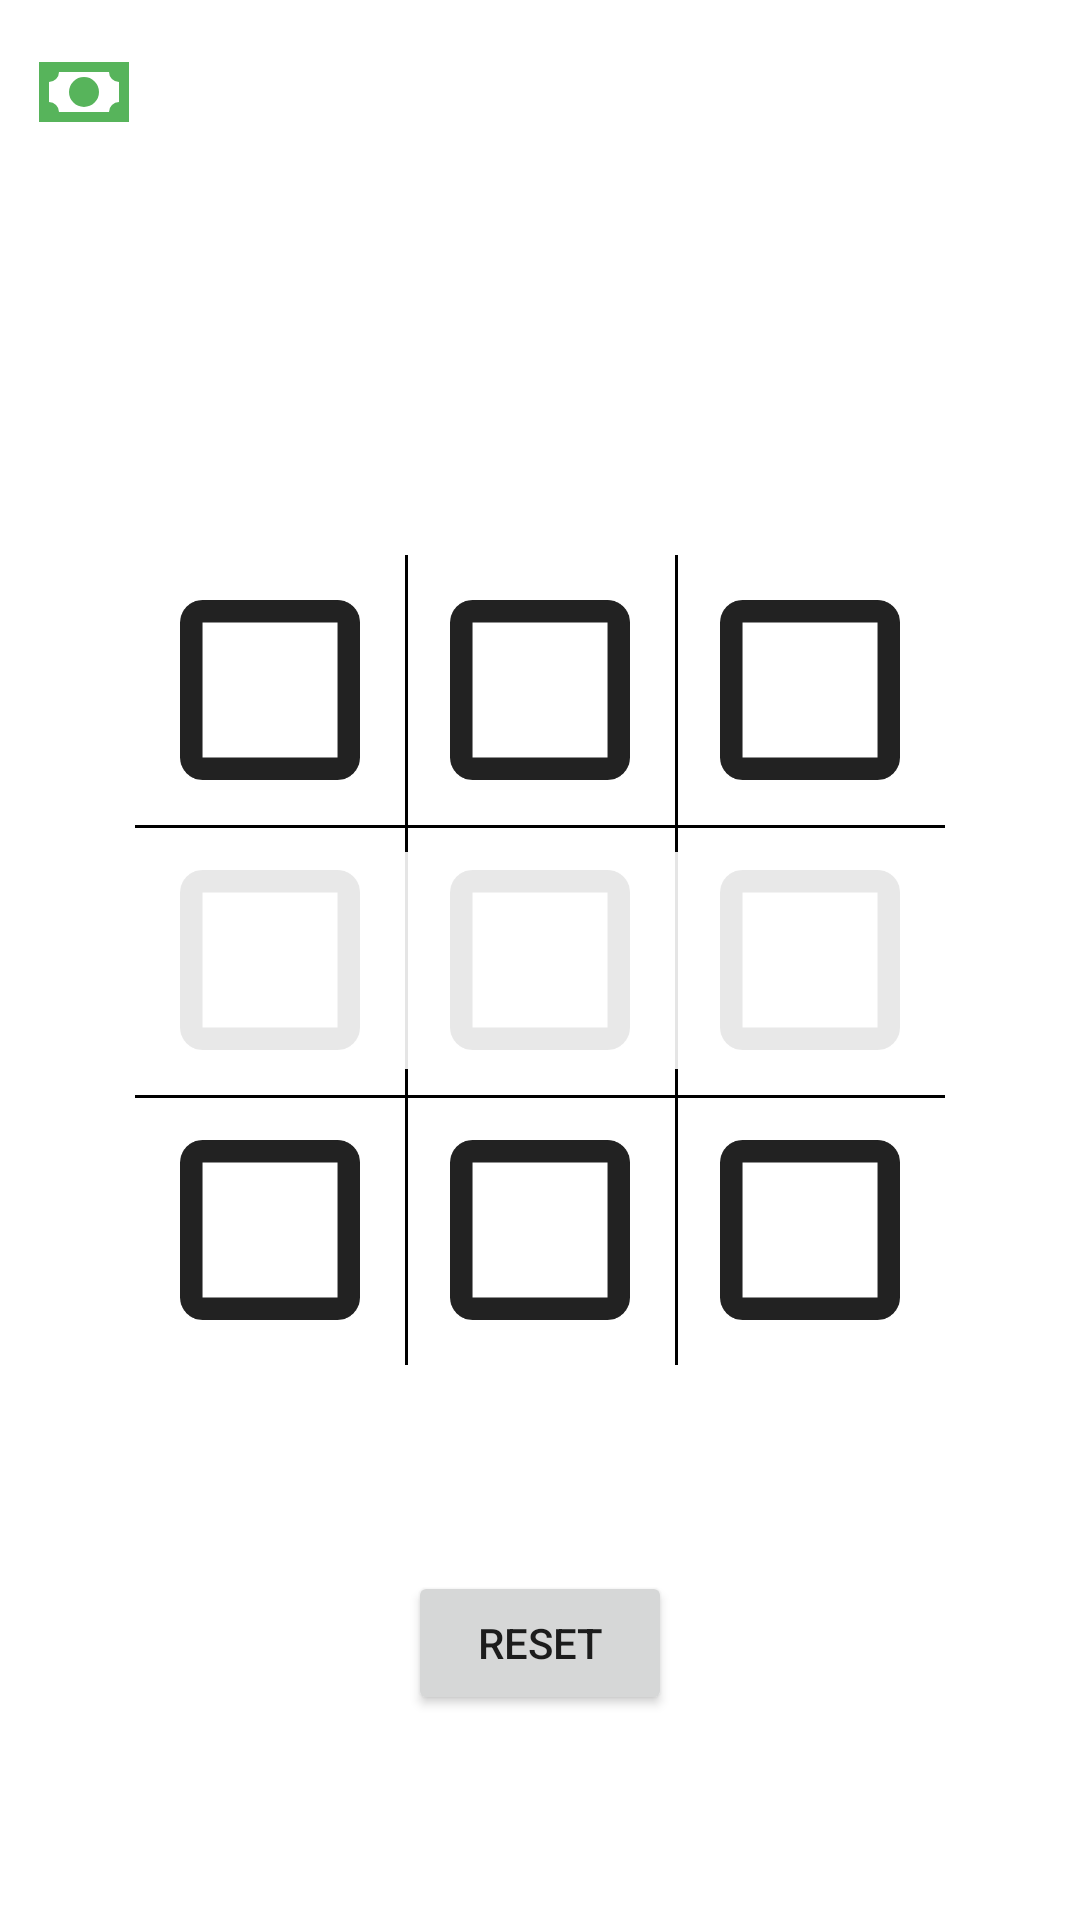

Screen size 1080px x 1920px. Icon name, then its center in pixels as (x=x, y=y):
money: (x=84, y=92)
